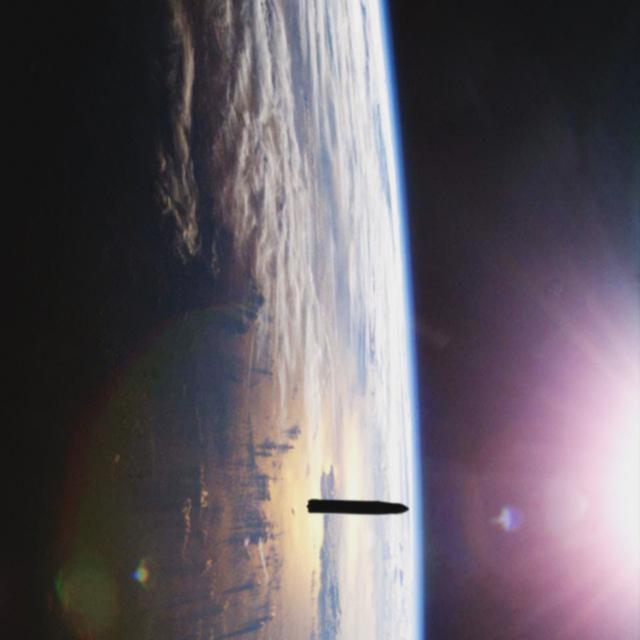rocket: (301, 487, 414, 524)
